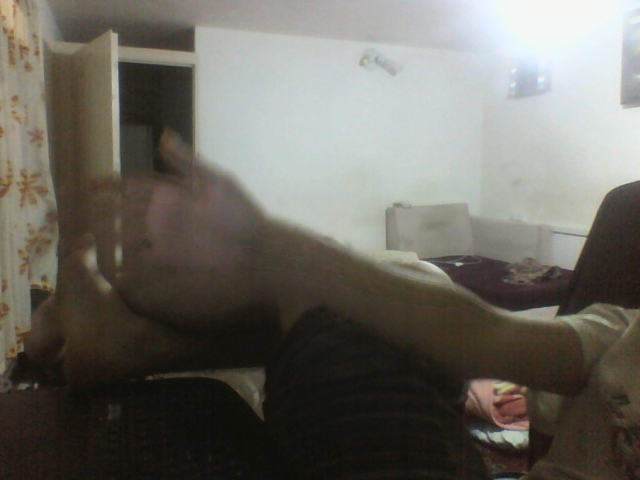taslim: (77, 128, 249, 281)
